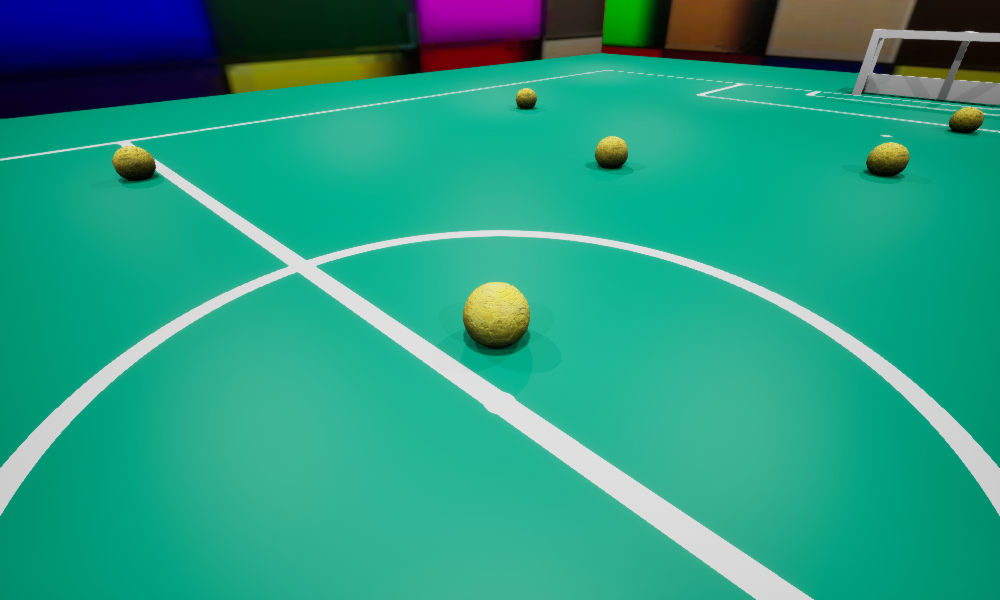b: (463, 282, 529, 347), (112, 146, 155, 180), (866, 142, 909, 175), (595, 136, 627, 168), (949, 107, 983, 132), (516, 88, 536, 108)
g: (852, 29, 999, 104)
